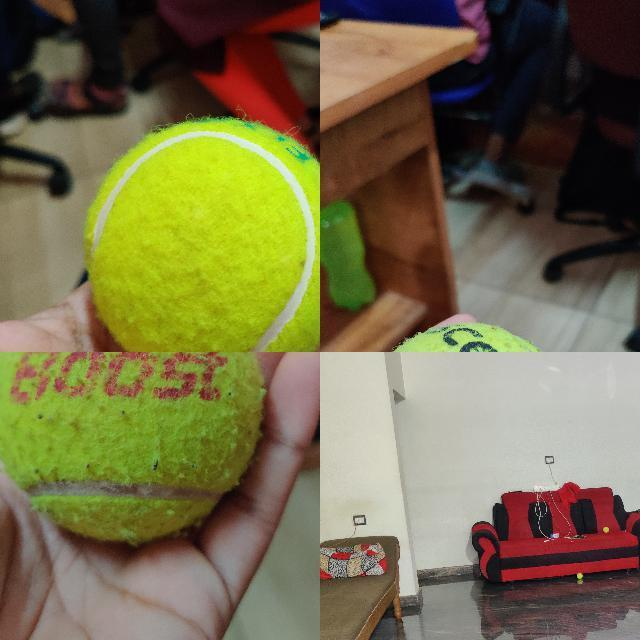tennis-ball: (85, 119, 319, 351), (0, 352, 263, 542), (603, 526, 609, 532), (576, 573, 582, 579)
